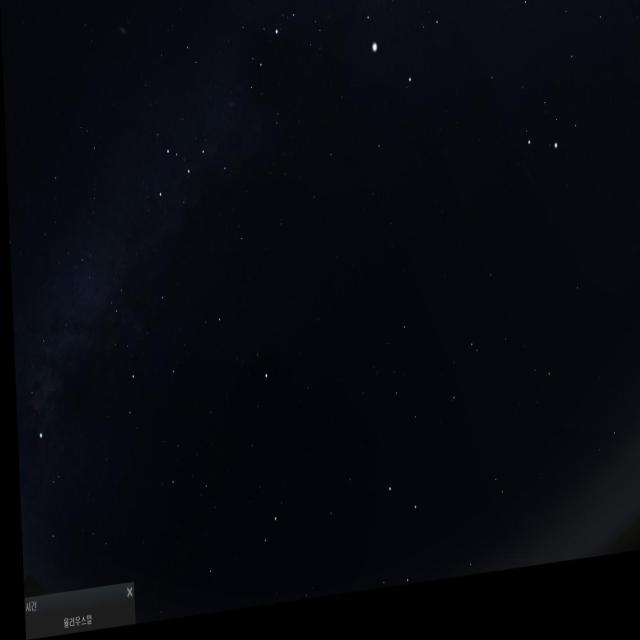cassiopeia: (152, 132, 227, 234)
